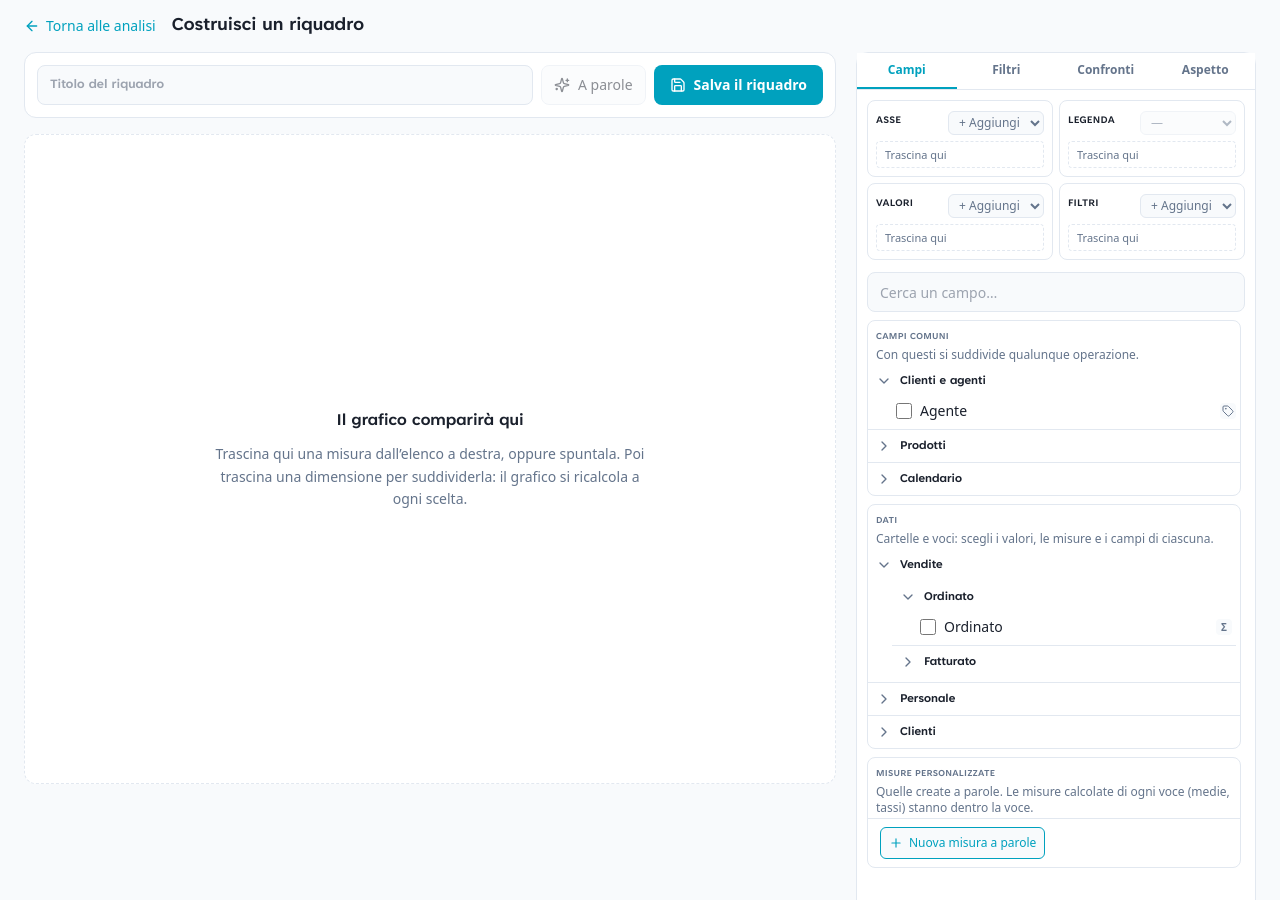
Scenario: builder a pannello laterale › togliere l'ultima misura dai Valori svuota il riquadro
Expected: the tab "Campi" is shown, [857,53,956,89]
Click the checkbox labelled "Ordinato".
click(928, 627)  # box [920,619,936,635]
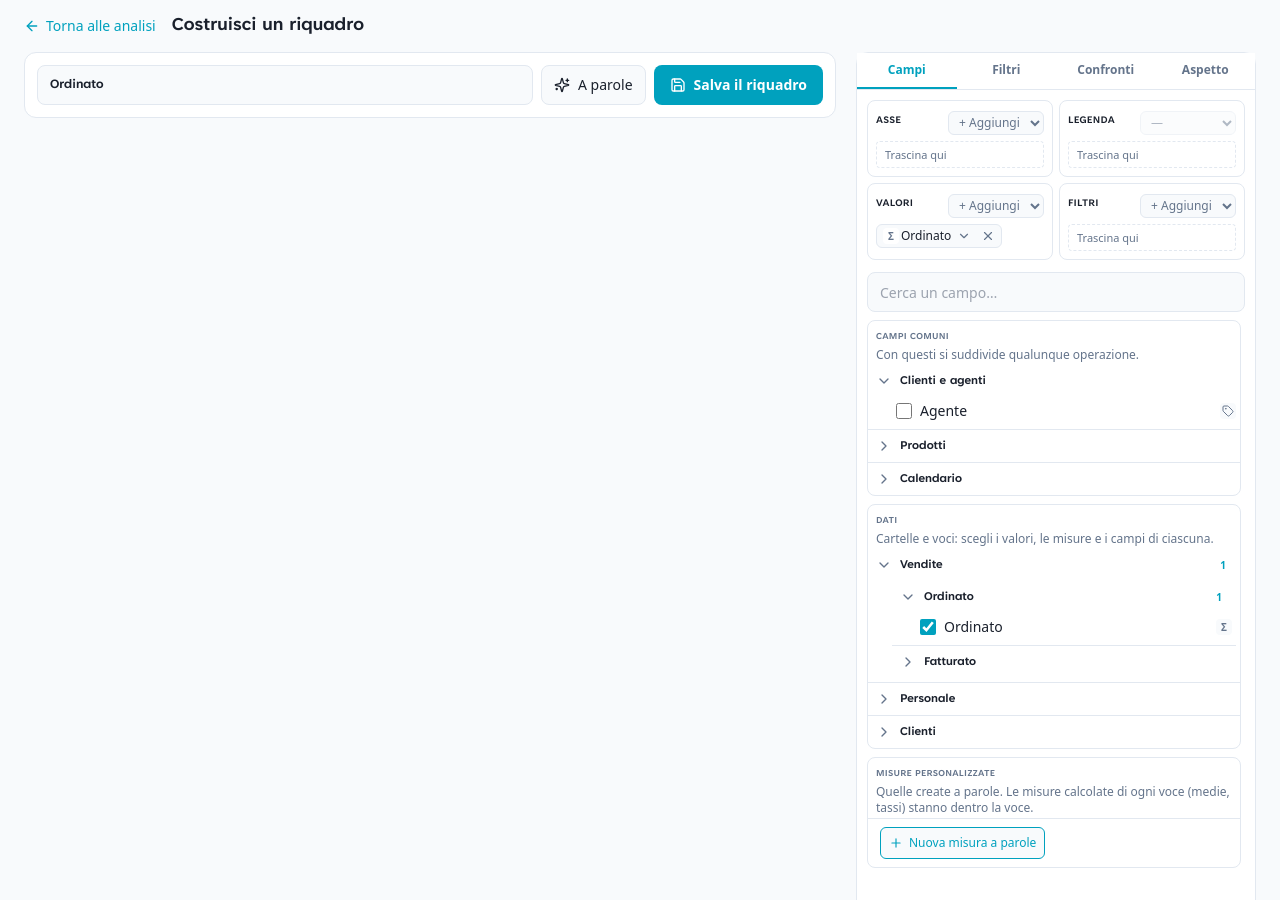
Expected: the text "Il grafico comparirà qui" is gone
Click the button named "Togli Ordinato dai valori".
click(988, 236)  # box [977,225,999,247]
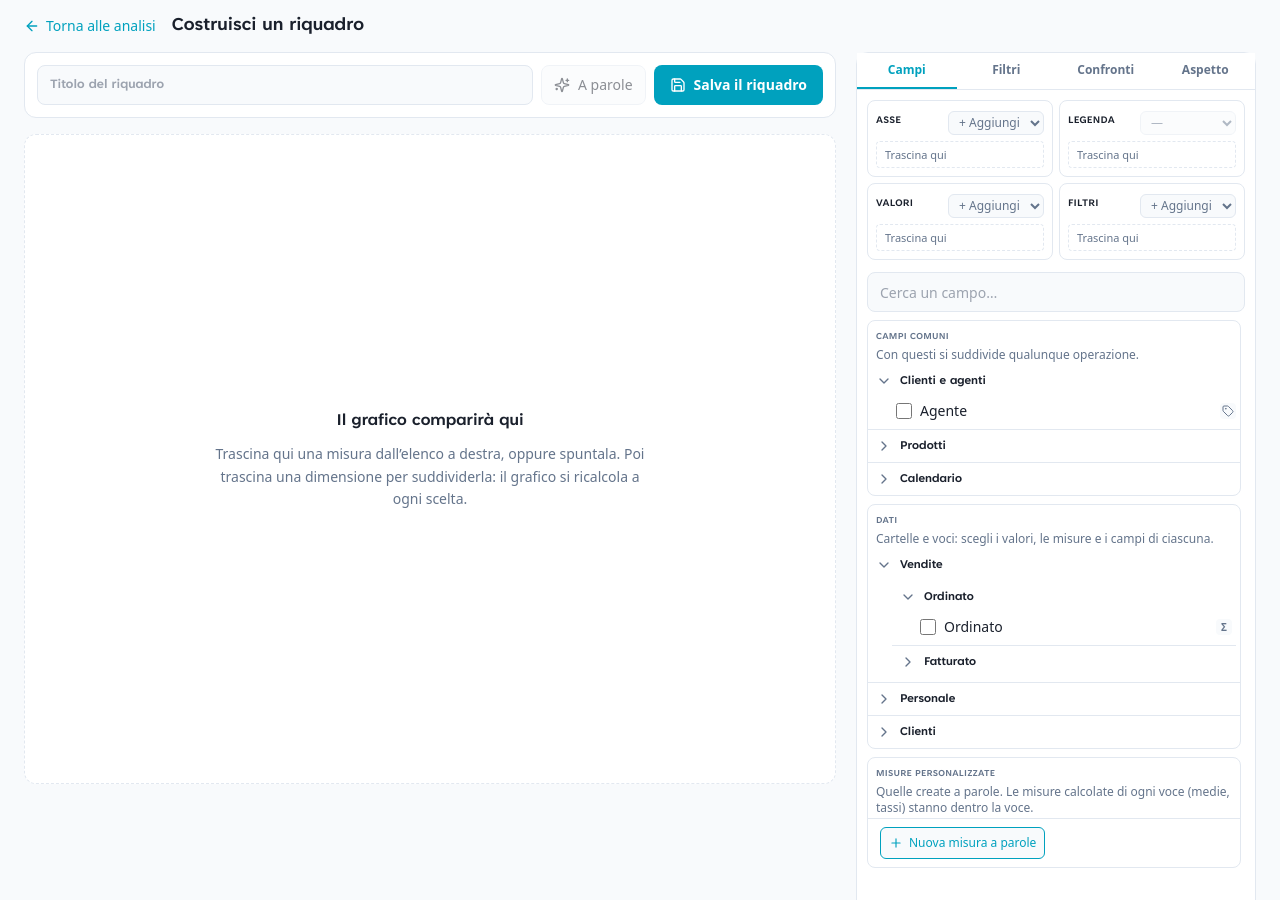
Expected: the text "Il grafico comparirà qui" is shown, [336,413,524,429]
